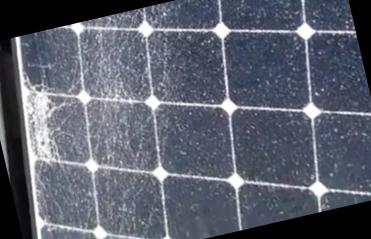Crack: (16, 58, 103, 177)
